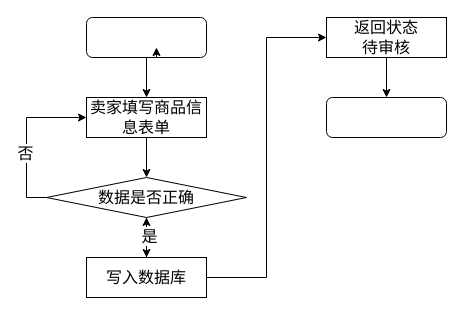
This 464x315 diagram has some shape labels left out. Here are the shapes that lost their labels. From the top down, the box of each, then its label:
(86, 16, 206, 58): 开始
(326, 96, 446, 138): 结束
